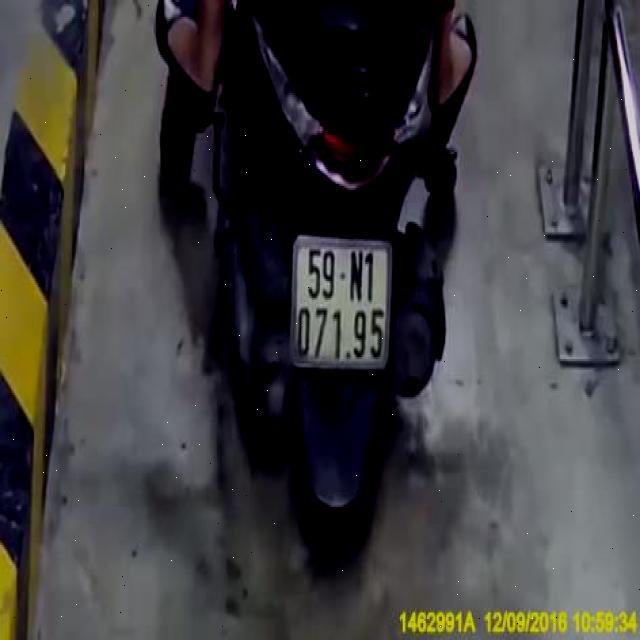0: (296, 302, 310, 356)
1: (364, 250, 378, 306), (332, 307, 342, 361)
5: (370, 305, 384, 357), (306, 247, 320, 297)
7: (315, 304, 331, 366)
9: (322, 249, 336, 304), (354, 307, 366, 364)
N: (349, 244, 365, 305)
